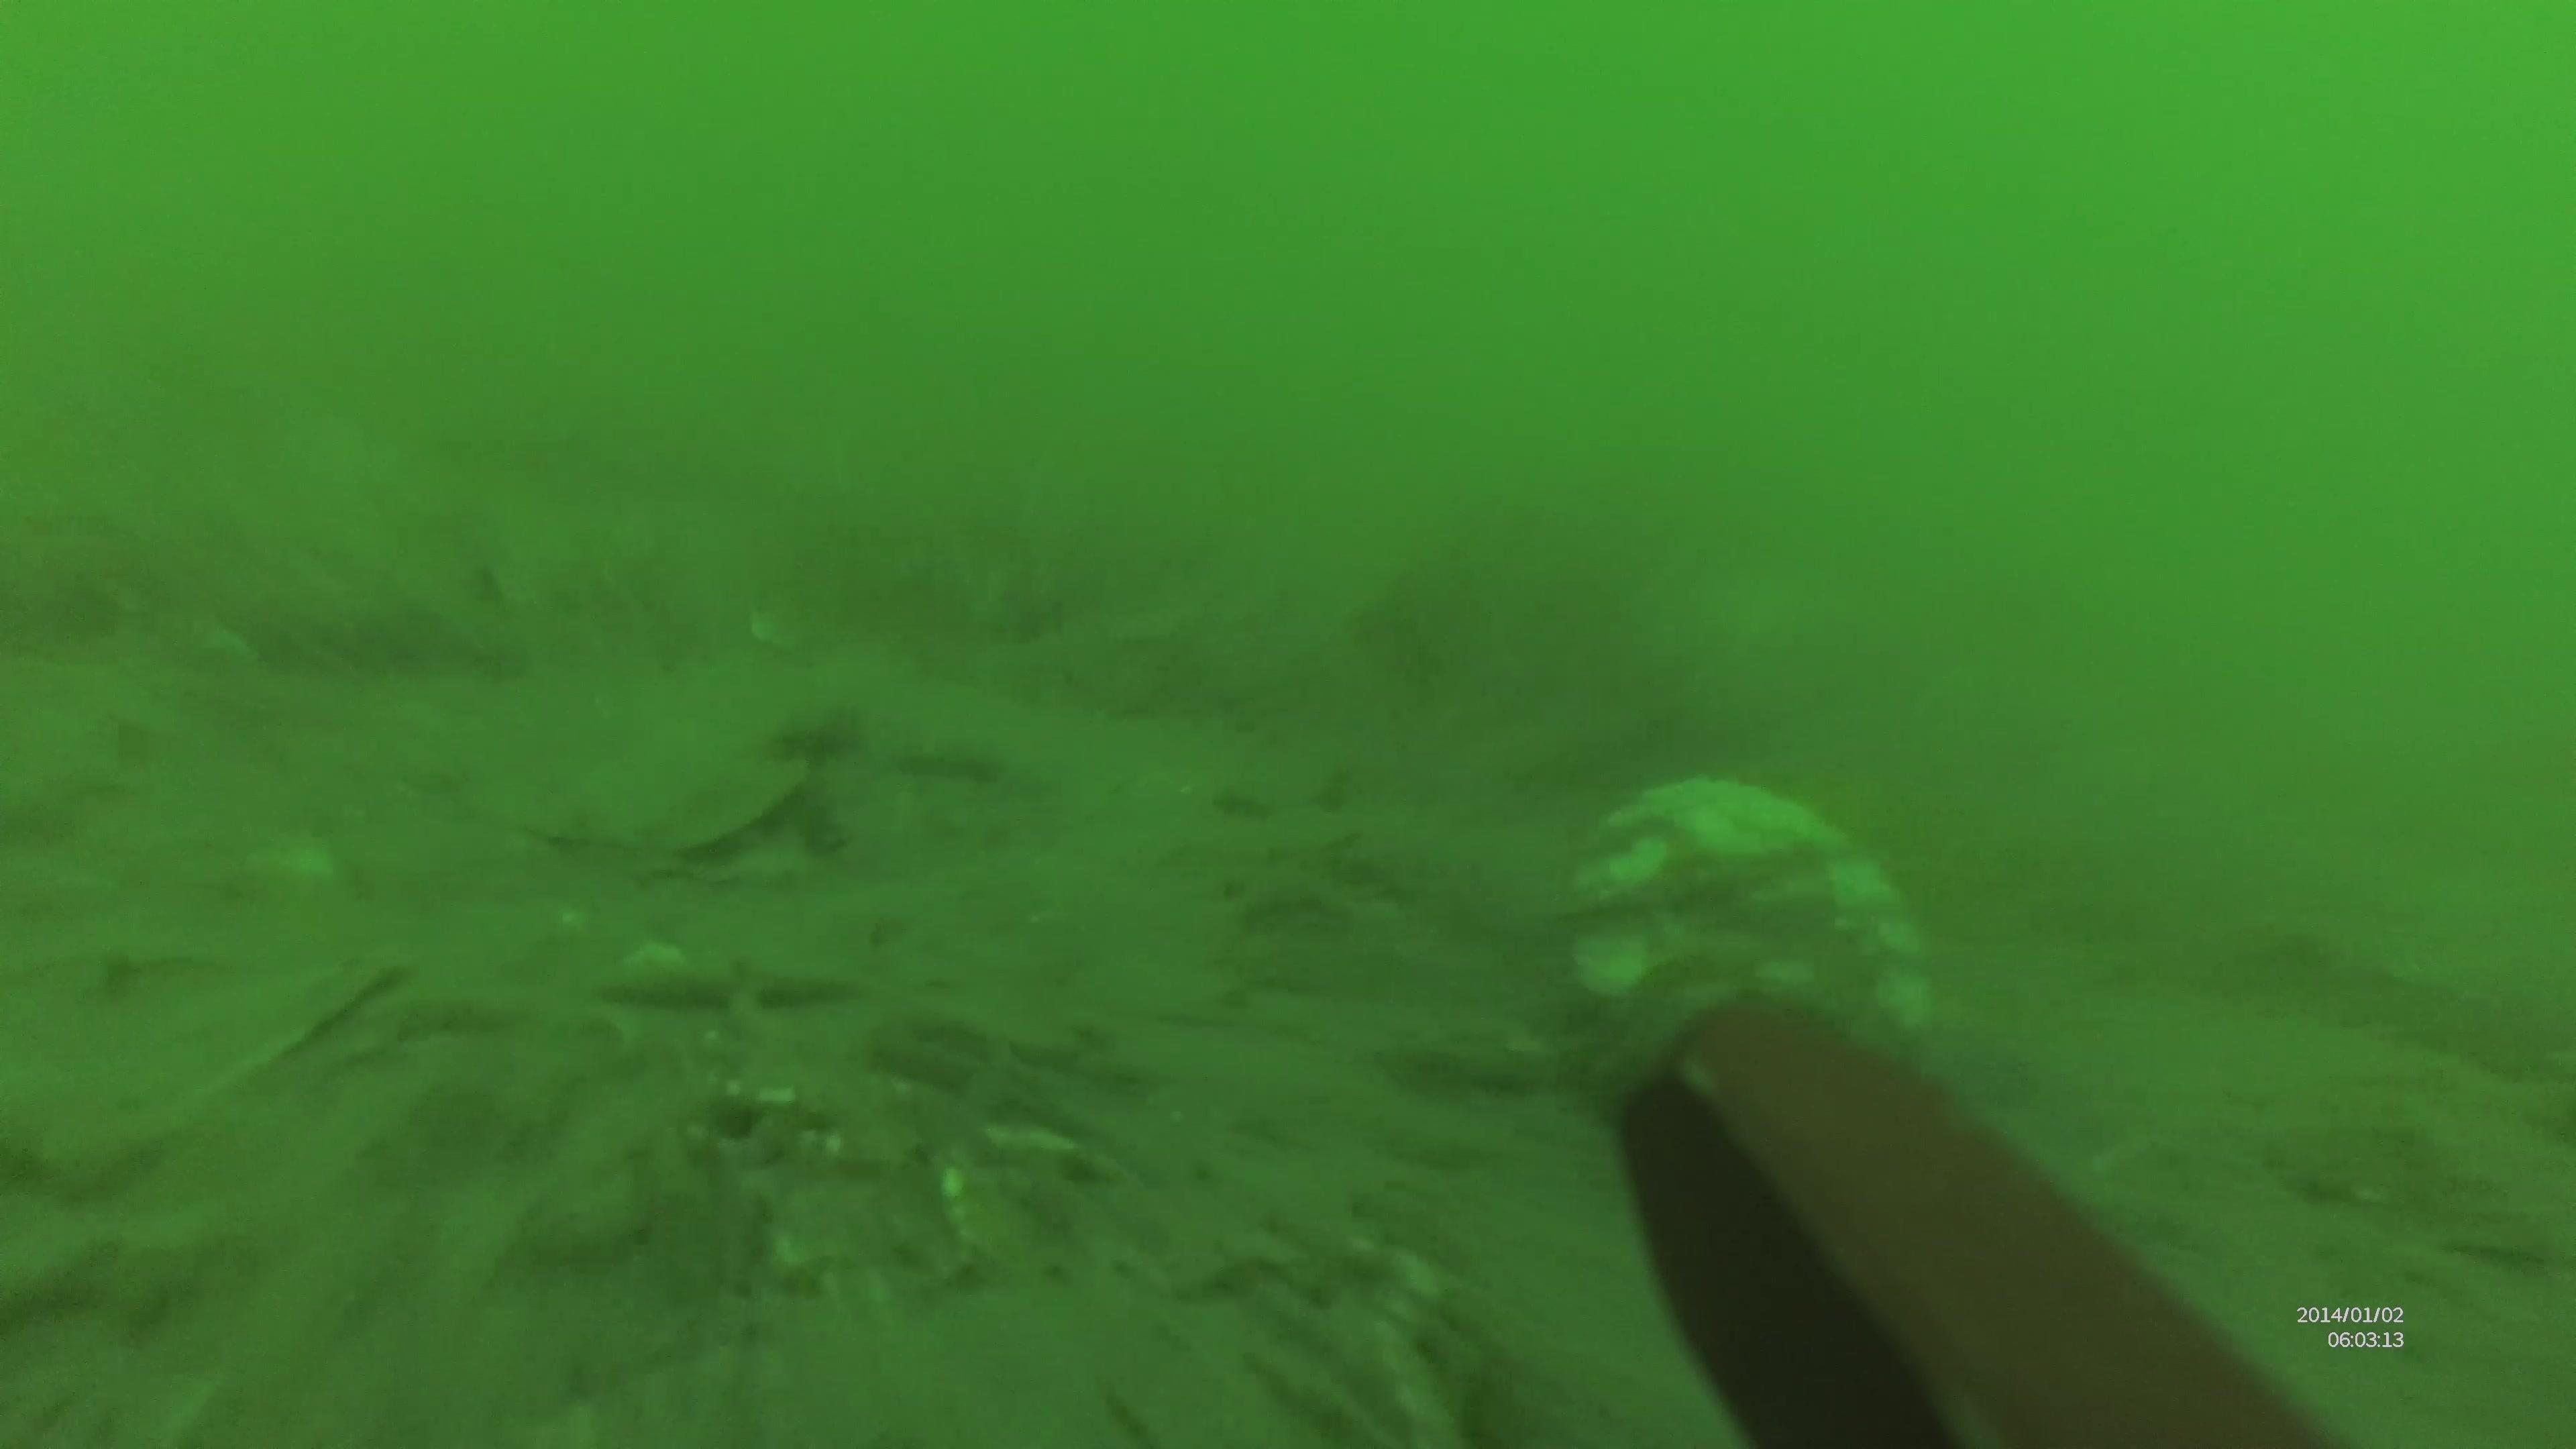scallop: (1582, 771, 1941, 1053)
